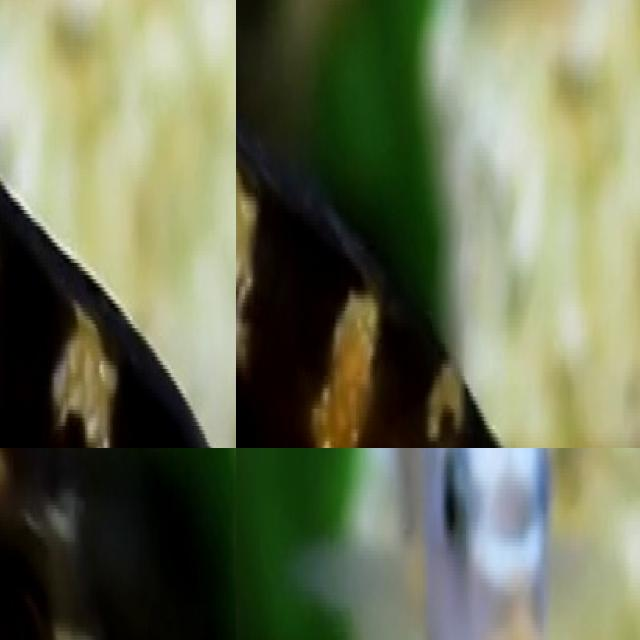fish: (0, 0, 236, 448), (261, 448, 565, 640)
